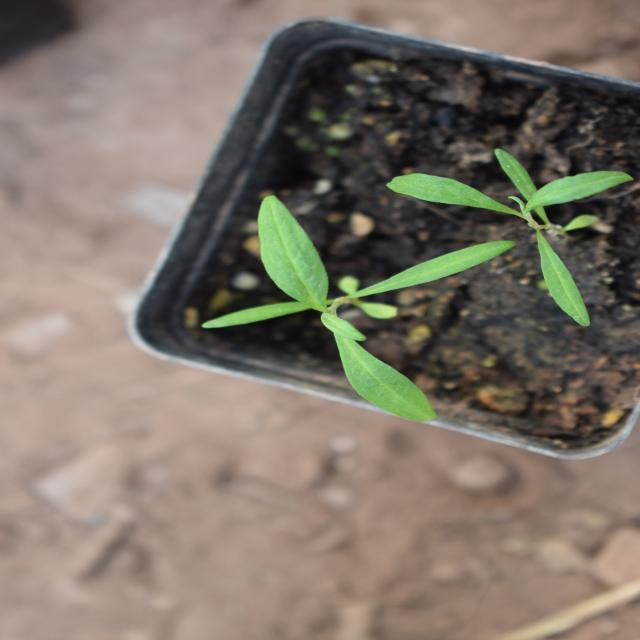white_smart_weed: (189, 198, 455, 492), (322, 382, 510, 619)
